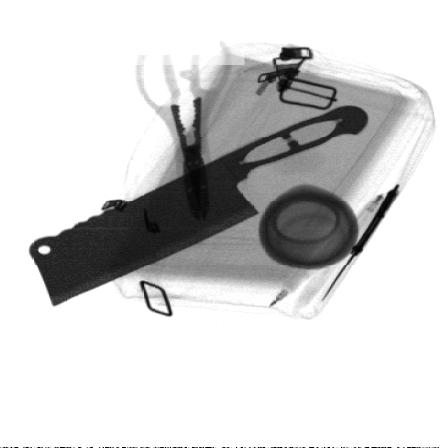Knife: (29, 106, 370, 306)
Scissors: (133, 33, 235, 224)
